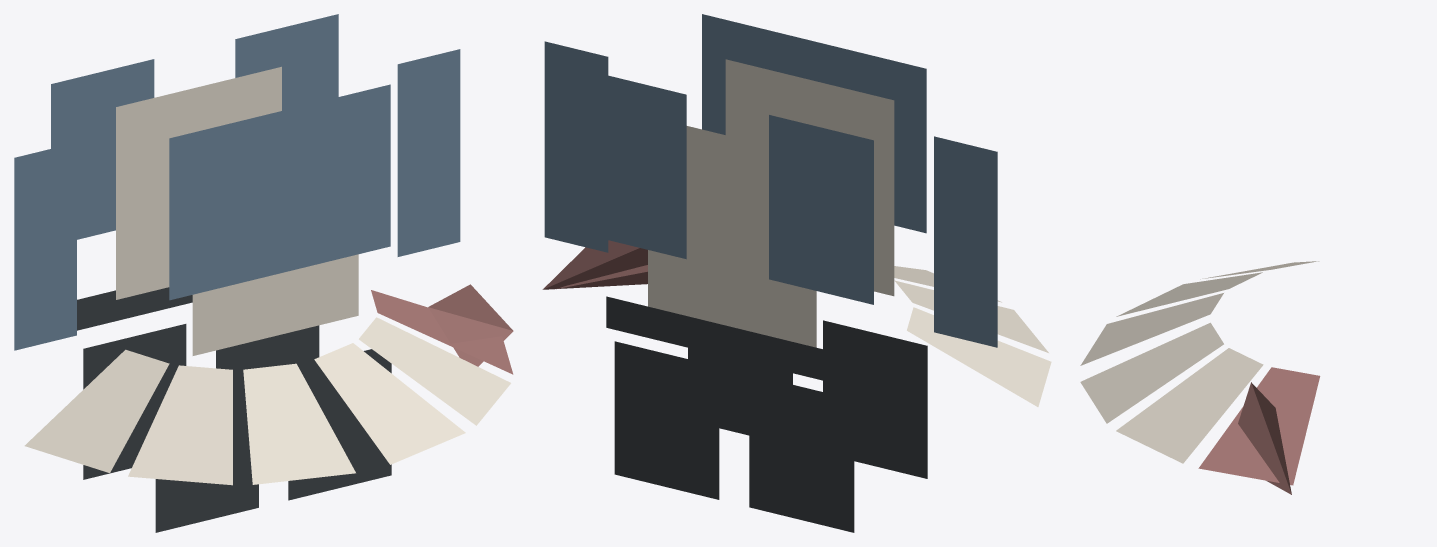
The model's file is rosette-fan-peplum.obj.
3 renders of one model, left to right at view 1: azimuth 30°, elevation 25°; view 2: azimuth 150°, elevation 25°; view 3: azimuth 270°, elevation 25°, orthographic. The views are drawn at different scales.
Visible parts, largest first — view 1: jacket_back, inner_front, sleeve_R, sleeve_L, inner_back, jacket_front_L, fan_B, fan_C, fan_A, fan_D, jacket_front_R, fan_E (+7 smaller); view 2: inner_front, jacket_front_R, jacket_front_L, jacket_back, shorts_front_L, shorts_front_R, sleeve_L, inner_back, shorts_back_L, sleeve_R, waistband, fan_A (+3 smaller); view 3: fan_E, fan_F, fan_D, fan_C, overlap_flap_R, fan_B.
Boxes of the visible parts, box(x1,y1,x2,y2) form: jacket_back: box(169, 84, 390, 300); inner_front: box(116, 66, 281, 299); sleeve_R: box(397, 49, 460, 256); sleeve_L: box(14, 142, 76, 350); inner_back: box(192, 254, 358, 355); jacket_front_L: box(51, 59, 154, 239); fan_B: box(128, 365, 232, 485); fan_C: box(243, 363, 355, 484); fan_A: box(24, 349, 169, 472); fan_D: box(314, 343, 465, 464); jacket_front_R: box(235, 14, 338, 110); fan_E: box(359, 317, 510, 425); inner_front: box(648, 126, 816, 347); jacket_front_R: box(581, 69, 686, 259); jacket_front_L: box(769, 115, 873, 304); jacket_back: box(702, 14, 926, 233); shorts_front_L: box(749, 374, 854, 532); shorts_front_R: box(614, 341, 719, 499); sleeve_L: box(934, 136, 997, 347); inner_back: box(725, 59, 894, 296); shorts_back_L: box(823, 320, 927, 478); sleeve_R: box(544, 41, 608, 252); waistband: box(606, 296, 853, 387); fan_A: box(907, 307, 1051, 406); fan_E: box(1116, 348, 1263, 463); fan_F: box(1198, 367, 1320, 485); fan_D: box(1080, 322, 1223, 423); fan_C: box(1080, 293, 1223, 365); overlap_flap_R: box(1238, 382, 1291, 494); fan_B: box(1116, 272, 1262, 316).
Bounding box in the file's own units: 1.33 × 1.03 × 0.8384.
